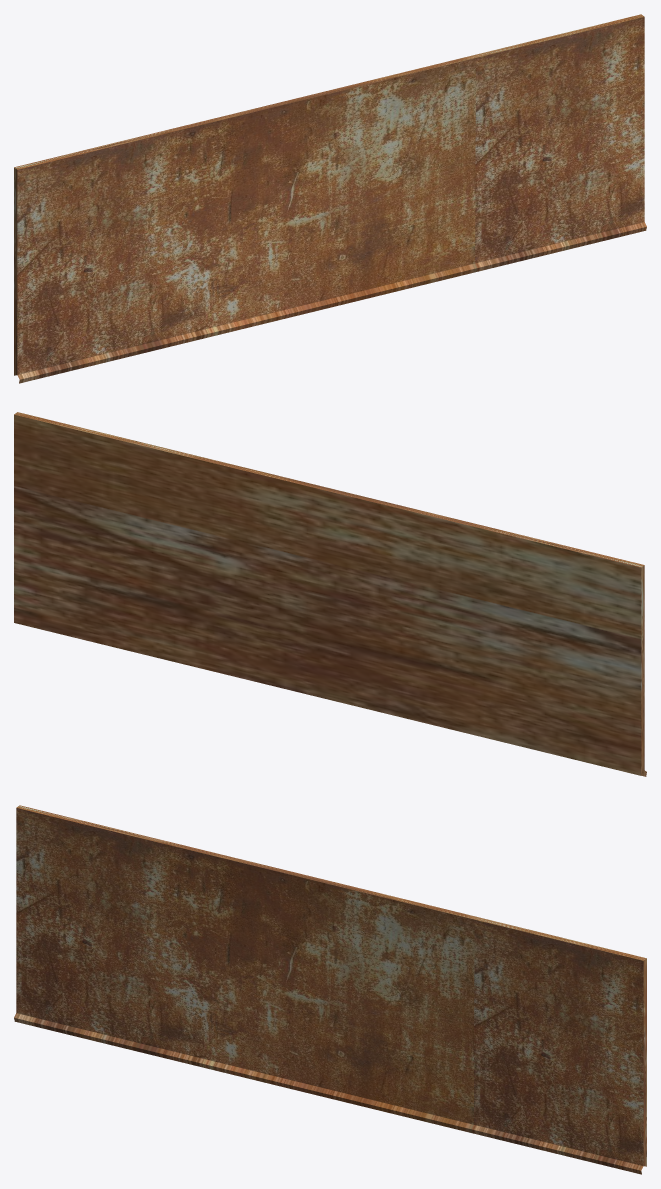
File: duvareeee.fbx
3 views of the same model, one above another, from view 1: azimuth 30°, elevation 25°; view 2: azimuth 150°, elevation 25°; view 3: azimuth 330°, elevation 25° (orthographic).
Parts seen in each view (by area): view 1: Cube.003; view 2: Cube.003; view 3: Cube.003.
Part boxes in pixels (left/top/right/bottom): Cube.003: left=14, top=14, right=646, bottom=383; Cube.003: left=14, top=412, right=646, bottom=776; Cube.003: left=14, top=805, right=646, bottom=1174.
Bounding box in the file's own units: 10.01 × 3.25 × 0.1567.
Materials: 1 (1 with a texture image).
